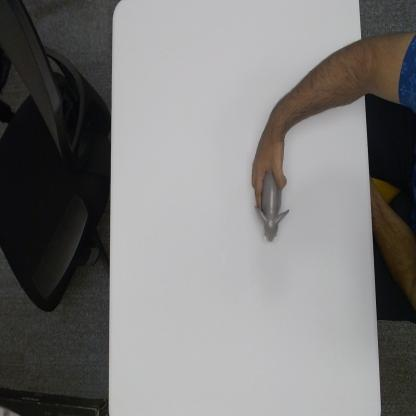Arm: (273, 38, 369, 130)
Elephant: (254, 172, 290, 246)
Hand: (249, 110, 289, 210)
